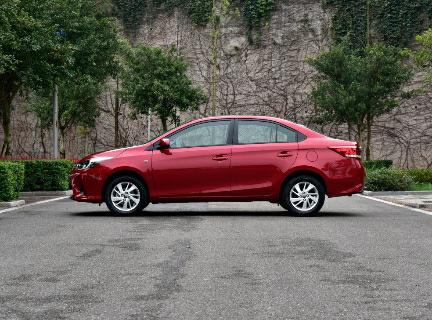丰田-YARiSL致享: (62, 113, 375, 224)
